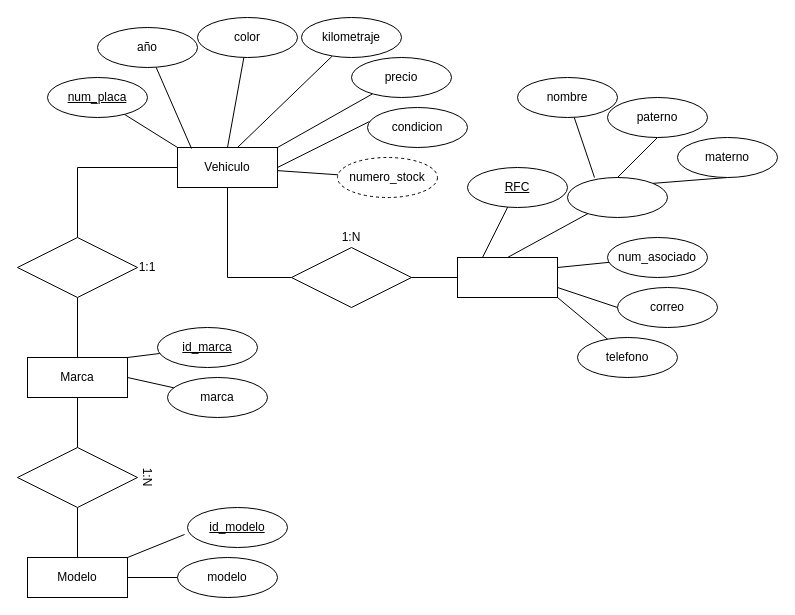
Some shapes in this 795 by 615 pixel diagram are drawn without their labels. Each missing label, with the centre of its shape:
Mecanico: the point at 507,277
nombreC: the point at 617,197
Pertenecer: the point at 77,267
Revisar: the point at 351,277
Tener: the point at 77,477
